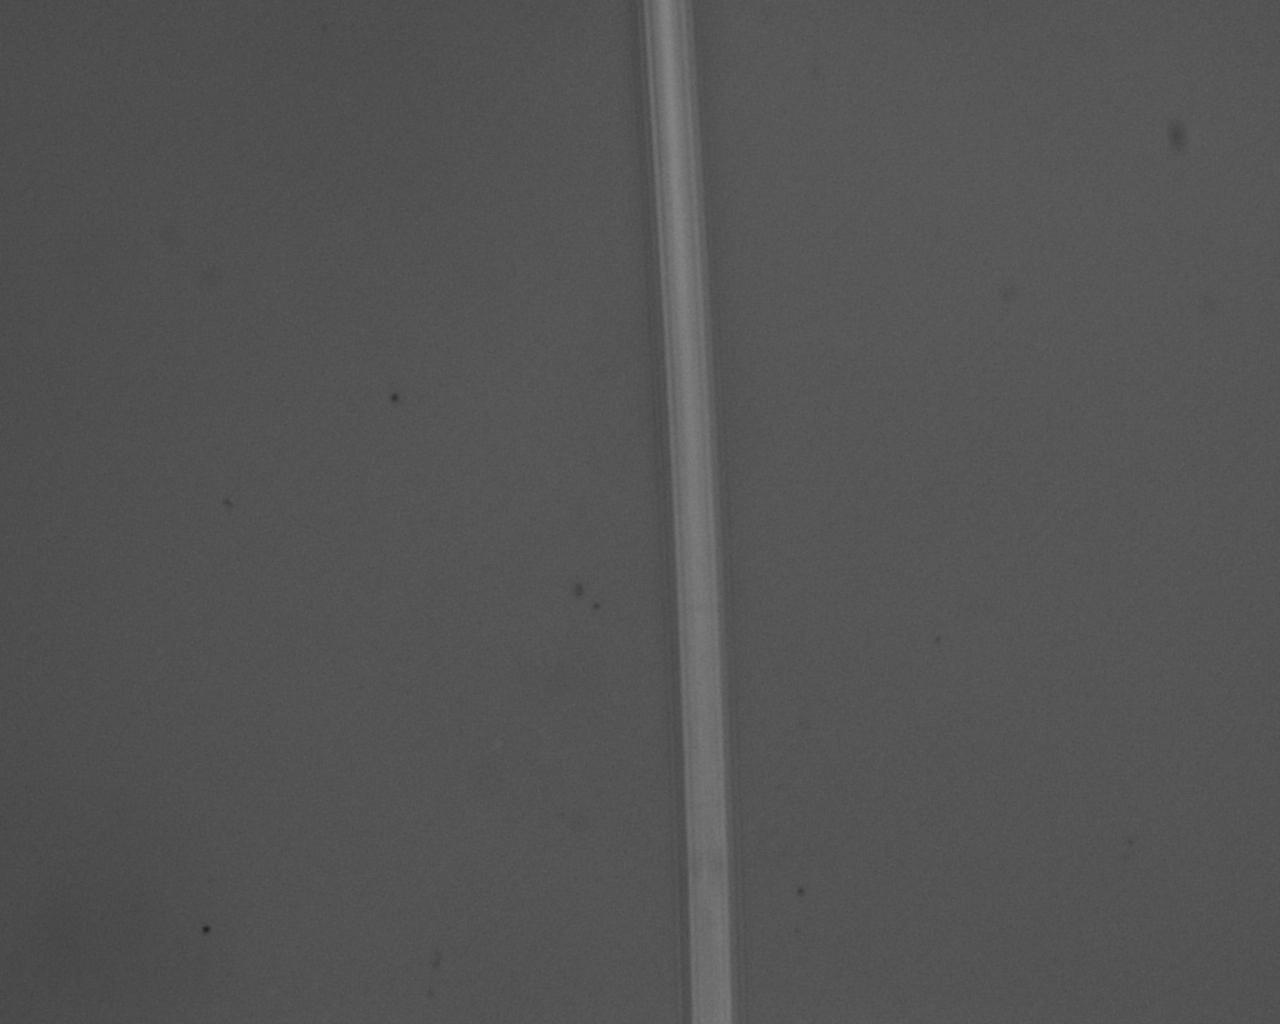fiber: (116, 0, 459, 706), (0, 706, 371, 1024), (1179, 706, 1280, 1024)
